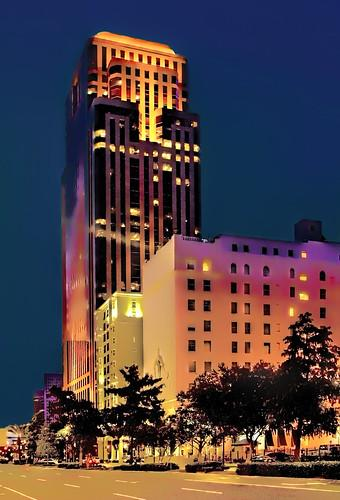building: (56, 27, 207, 458)
